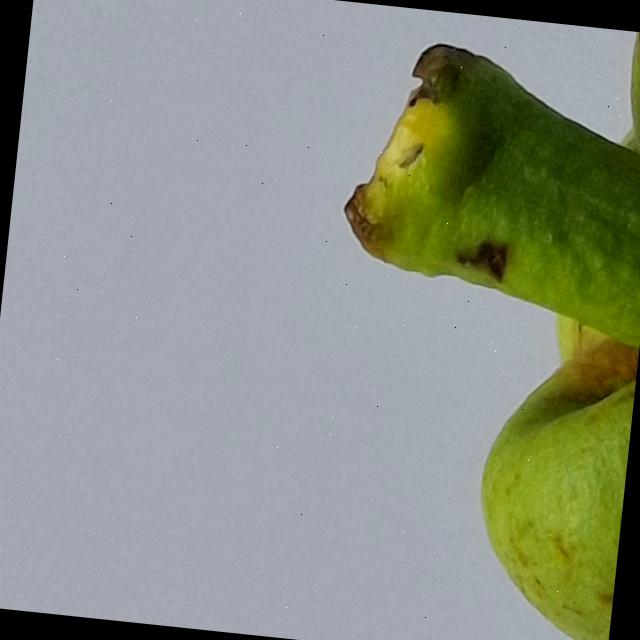mangosteen: (182, 0, 640, 640)
